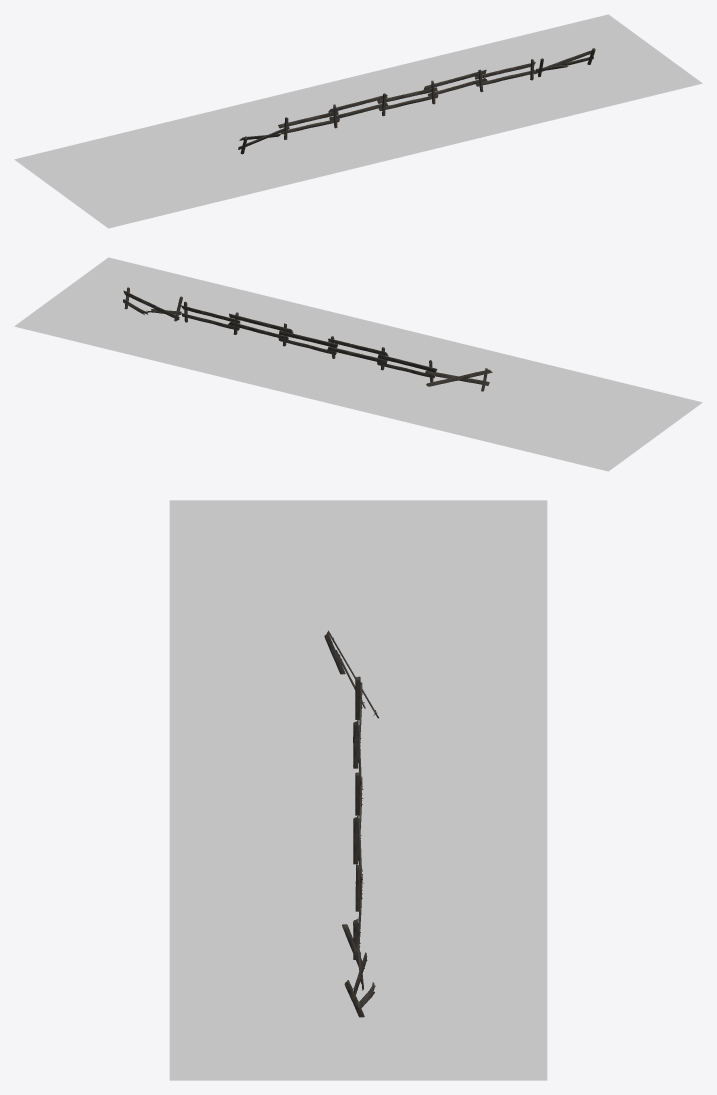
File: Fences.fbx
The picture shows the model from 3 angles, top to bottom: view 1: azimuth 30°, elevation 25°; view 2: azimuth 150°, elevation 25°; view 3: azimuth 270°, elevation 25°; orthographic projection. The views are drawn at different scales.
Parts seen in each view (by area): view 1: Plane, Fence_01, Fence_02, Fence_05, Fence_03, Fence_04, Fence_01_Broken; view 2: Plane, Fence_06_Broken, Fence_02, Fence_04, Fence_01, Fence_01_Broken, Fence_05, Fence_03; view 3: Plane, Fence_01_Broken.
Boxes of the visible parts, x1=… form: Plane: x1=14, y1=14, x2=702, y2=228; Fence_01: x1=475, y1=59, x2=535, y2=92; Fence_02: x1=423, y1=69, x2=487, y2=104; Fence_05: x1=278, y1=111, x2=339, y2=139; Fence_03: x1=377, y1=87, x2=438, y2=116; Fence_04: x1=328, y1=94, x2=388, y2=128; Fence_01_Broken: x1=534, y1=48, x2=595, y2=76; Plane: x1=14, y1=257, x2=702, y2=471; Fence_06_Broken: x1=424, y1=368, x2=492, y2=391; Fence_02: x1=228, y1=313, x2=293, y2=346; Fence_04: x1=327, y1=338, x2=388, y2=370; Fence_01: x1=181, y1=301, x2=240, y2=334; Fence_01_Broken: x1=123, y1=287, x2=182, y2=321; Fence_05: x1=377, y1=354, x2=437, y2=382; Fence_03: x1=278, y1=330, x2=337, y2=358; Plane: x1=169, y1=500, x2=547, y2=1080; Fence_01_Broken: x1=342, y1=924, x2=375, y2=1017.
Size of what is drawn, in the model's own units: 4596 by 224 by 1265.
